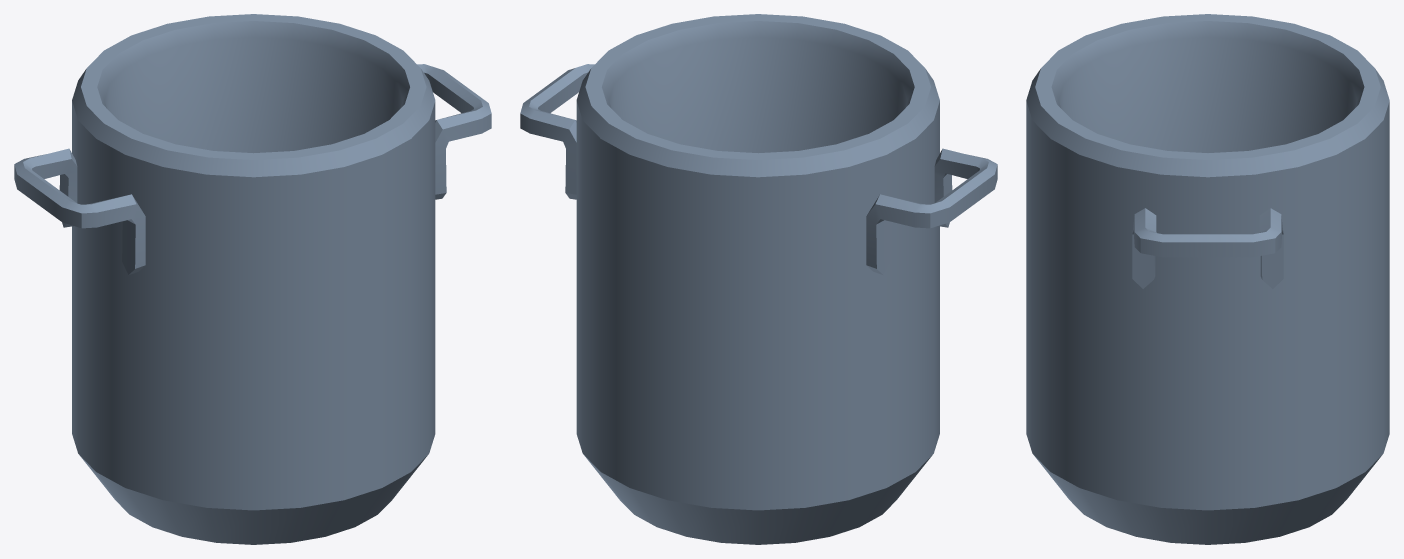
Rendered from Environment_Pot_2_Empty.fbx.
3 renders of one model, left to right at view 1: azimuth 30°, elevation 25°; view 2: azimuth 150°, elevation 25°; view 3: azimuth 270°, elevation 25°, orthographic.
Parts seen in each view (by area): view 1: Environment_Pot_2_Empty; view 2: Environment_Pot_2_Empty; view 3: Environment_Pot_2_Empty.
Part boxes in pixels (x1=…): Environment_Pot_2_Empty: x1=14, y1=14, x2=491, y2=544; Environment_Pot_2_Empty: x1=520, y1=14, x2=997, y2=544; Environment_Pot_2_Empty: x1=1026, y1=14, x2=1389, y2=544.
Size of the model in its own units: 140 by 125 by 104.
